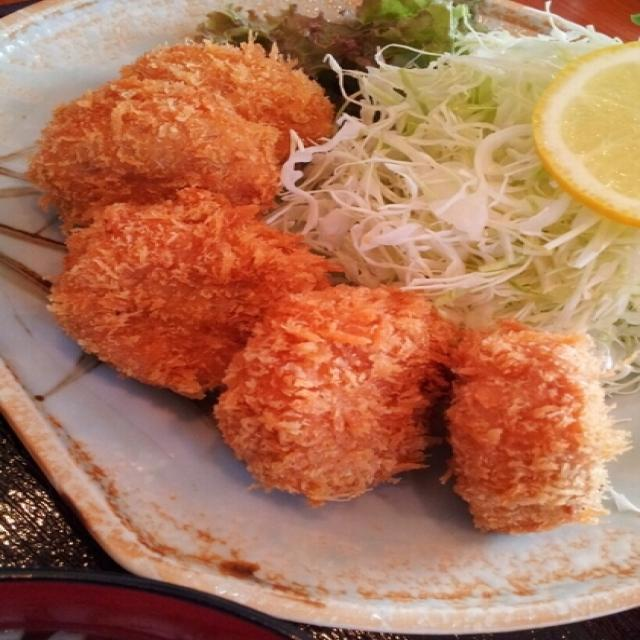牛肉菜式: (15, 18, 617, 586)
